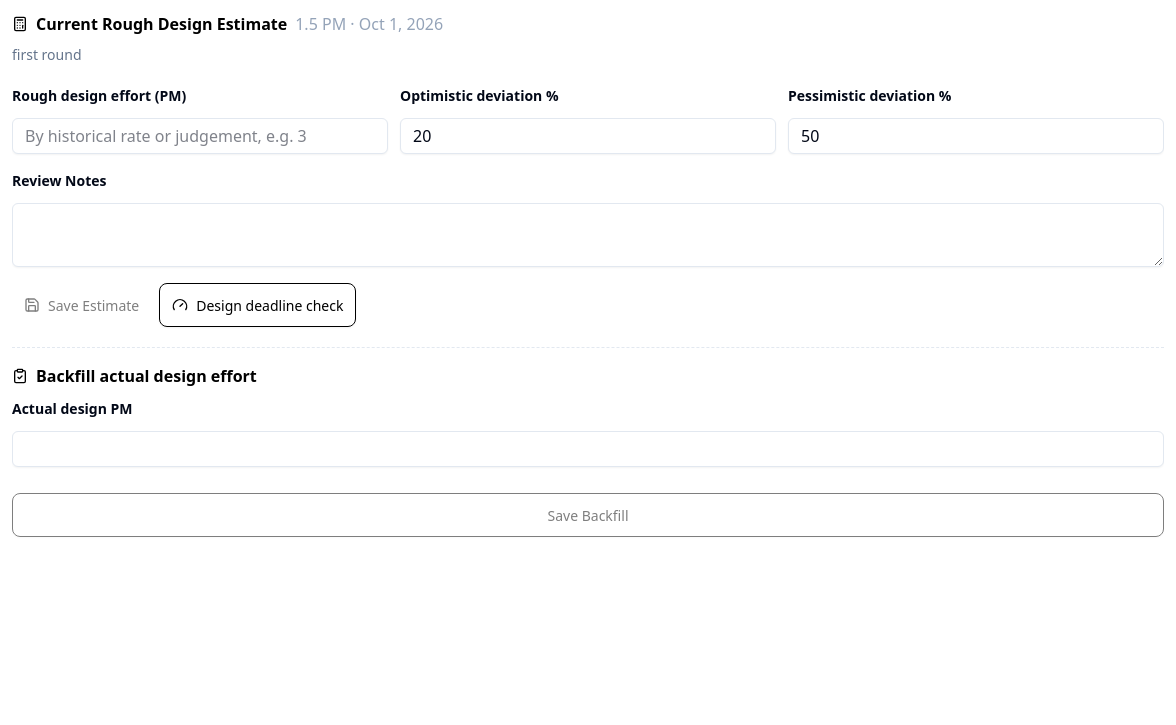
Test: DesignEstimationPanel backfill (IP-07a / C11 / C12) › R08: design check result identifies the saved version and goes stale on edit
Expected: the text "Current Rough Design Estimate" is shown, x1=36 y1=12 x2=287 y2=36
Step 1. Click the button "Design deadline check" → (258, 305), box x1=159 y1=283 x2=356 y2=327
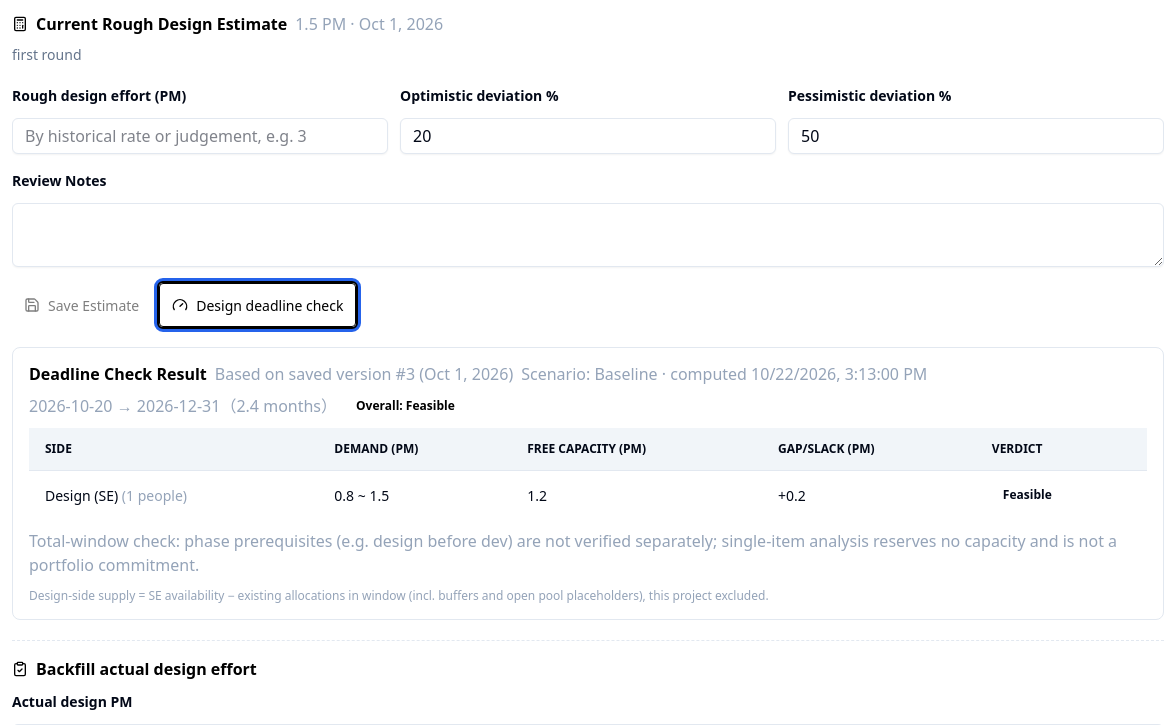
Result: the text "Based on saved version #3 (Oct 1, 2026)" is shown at x1=215 y1=362 x2=513 y2=386
Result: the text "Scenario: Baseline · computed 10/22/2026, 3:13:00 PM" is shown at x1=521 y1=362 x2=927 y2=386
Result: the text "Total-window check" is shown at x1=29 y1=530 x2=1117 y2=576
Step 2. Type "2" into the number field labelled "Rough design effort (PM)" → (200, 136), box x1=12 y1=118 x2=388 y2=154
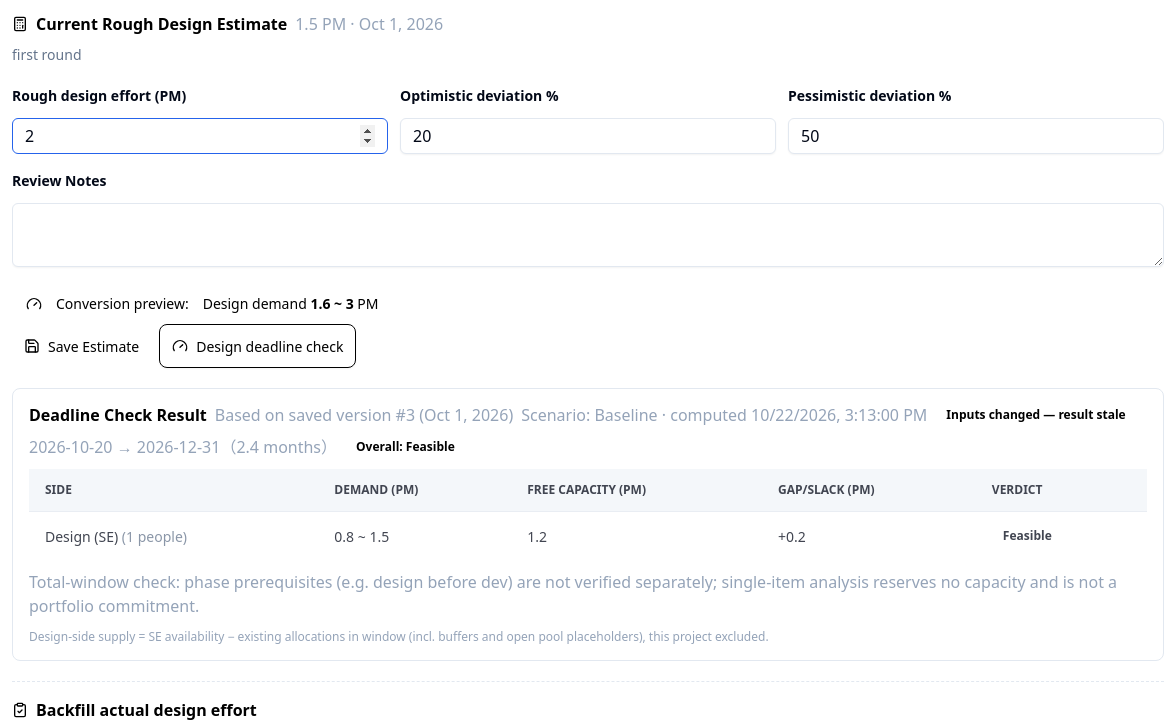
Result: the text "Inputs changed — result stale" is shown at x1=935 y1=403 x2=1137 y2=427
